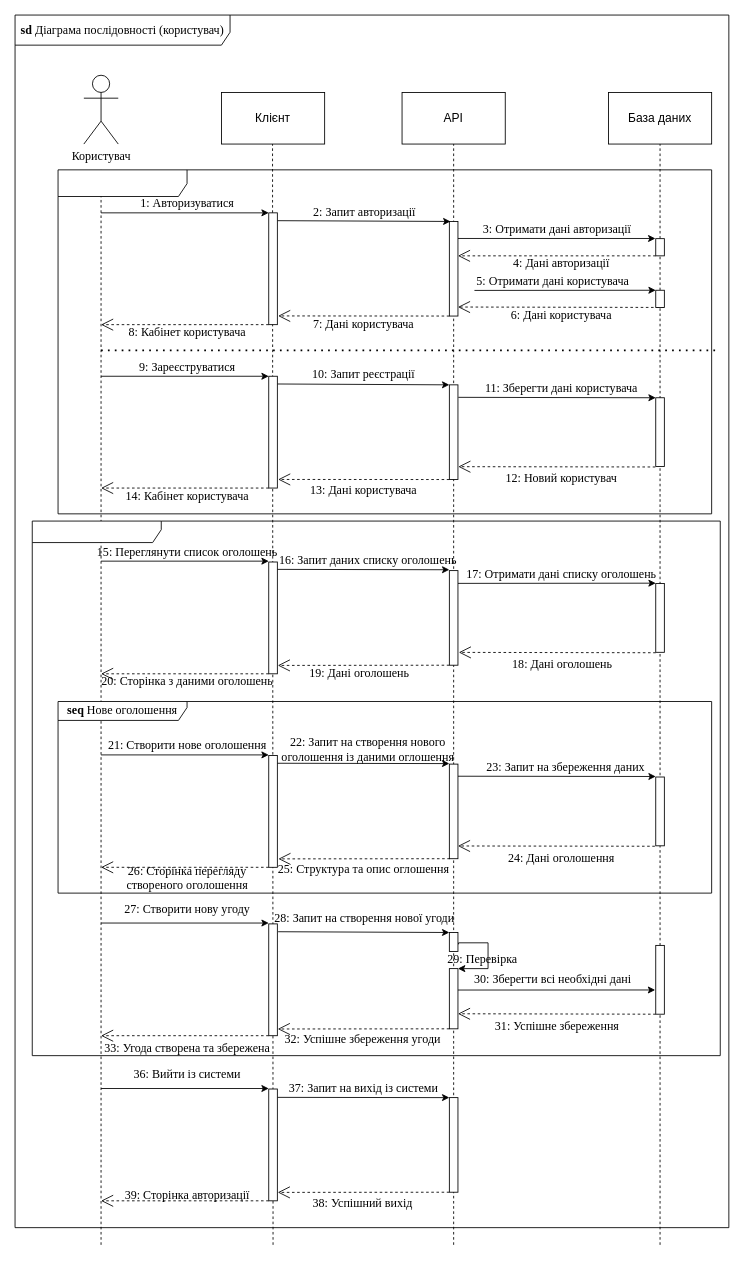
Image size: 744x1261. Some labels were removed from this diagram. The box of each missing label's shape, as (x1, y1, x2, y2) in pixels:
alt Автентифікація: (57, 169, 712, 514)
loop Робота з оголошеннями: (31, 520, 720, 1056)
